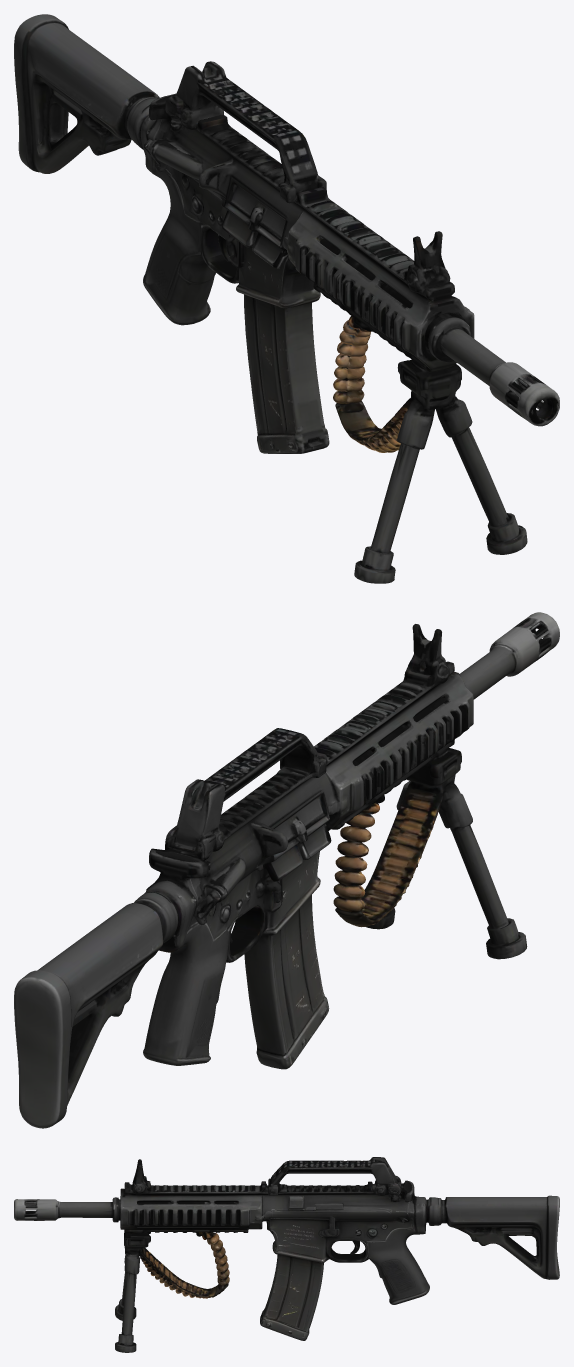
File: gun.glb
The picture shows the model from 3 angles, top to bottom: view 1: azimuth 30°, elevation 25°; view 2: azimuth 150°, elevation 25°; view 3: azimuth 270°, elevation 25°; orthographic projection. The views are drawn at different scales.
Parts seen in each view (by area): view 1: node_0; view 2: node_0; view 3: node_0.
Part boxes in pixels (x1,y1,x2,y2): node_0: (14,14,559,583); node_0: (14,612,559,1128); node_0: (14,1157,559,1352).
Bounding box in the file's own units: 0.2244 × 0.4258 × 1.18.
Materials: 1 (1 with a texture image).
